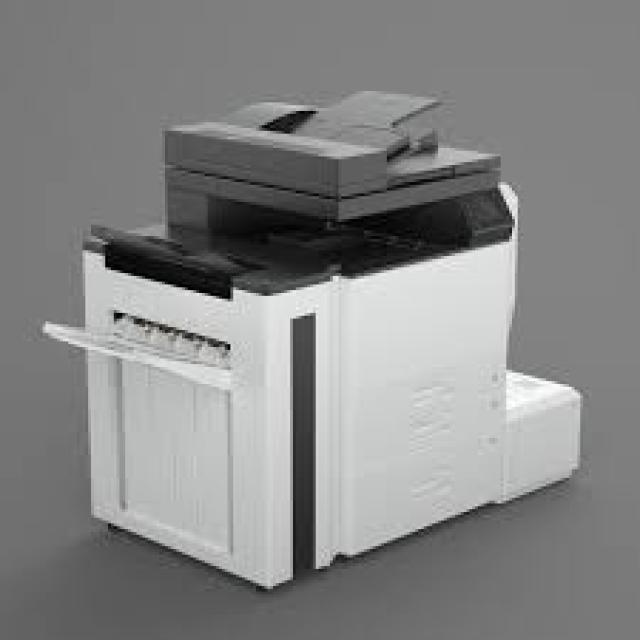printer: (40, 88, 583, 592), (160, 85, 503, 236)
